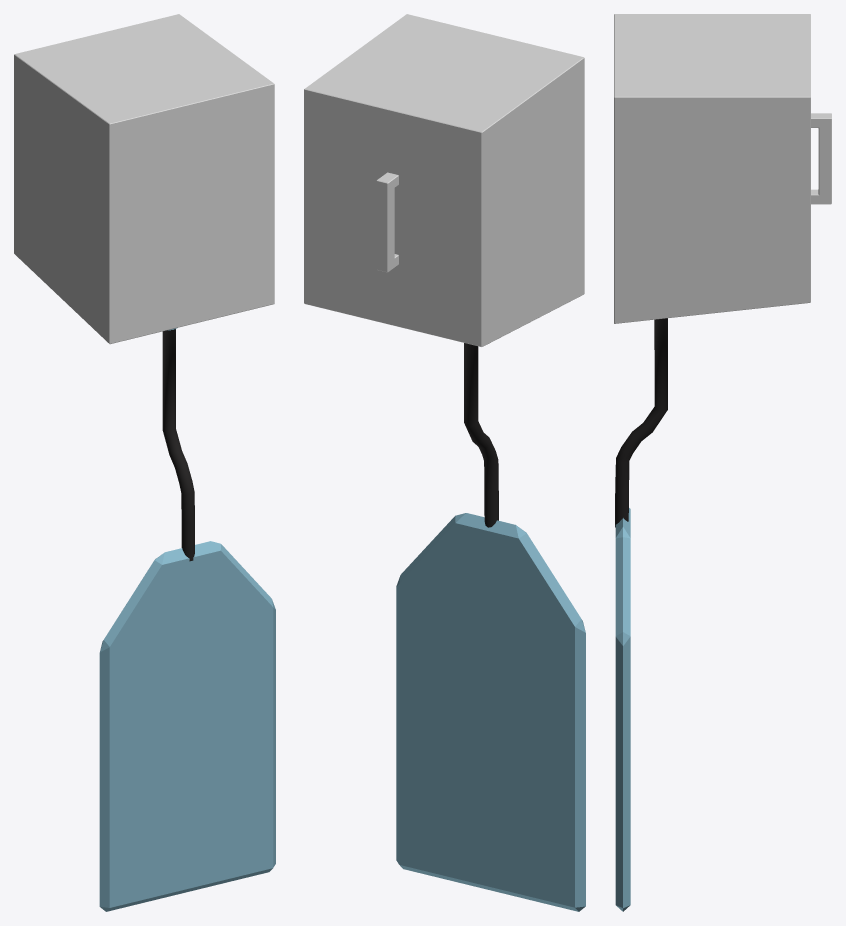
3 views of the same model, side by side, from view 1: azimuth 30°, elevation 25°; view 2: azimuth 150°, elevation 25°; view 3: azimuth 270°, elevation 25° (orthographic). The views are drawn at different scales.
Parts seen in each view (by area): view 1: Cube; view 2: Cube; view 3: Cube.
Part boxes in pixels (box(x1,y1,x2,y2)): Cube: box(14, 14, 275, 911); Cube: box(304, 14, 585, 911); Cube: box(614, 14, 831, 911).
Bounding box in the file's own units: 17.55 × 75.37 × 18.24.
